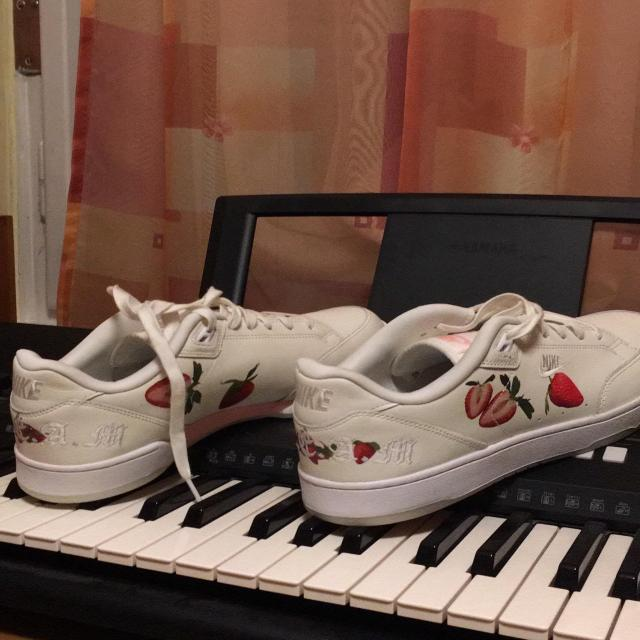shoe: (0, 220, 393, 505), (298, 242, 640, 558)
